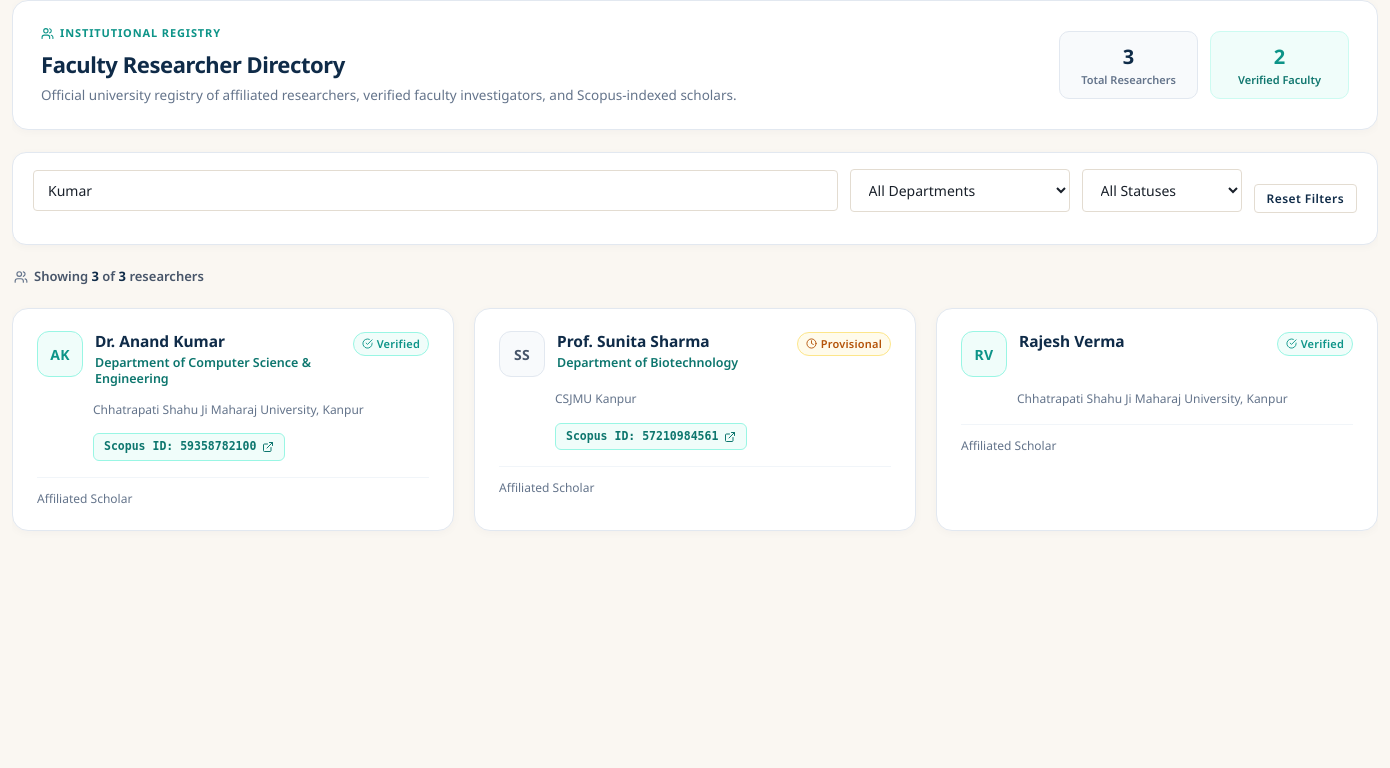
Test: SamikshaResearchersTab - Faculty Researcher Directory Suite › 6. Filters researchers by verification status and search input
The width and height of the screenshot is (1390, 768).
Expected: the field with placeholder "Search researchers by name, department, or Scopus ID..." holds "Kumar", [33,170,838,211]
Note: Filter by verification status
Select "Provisional Only" in the dropdown named "Filter by verification status" at (1162,190), box [1082,169,1242,212]
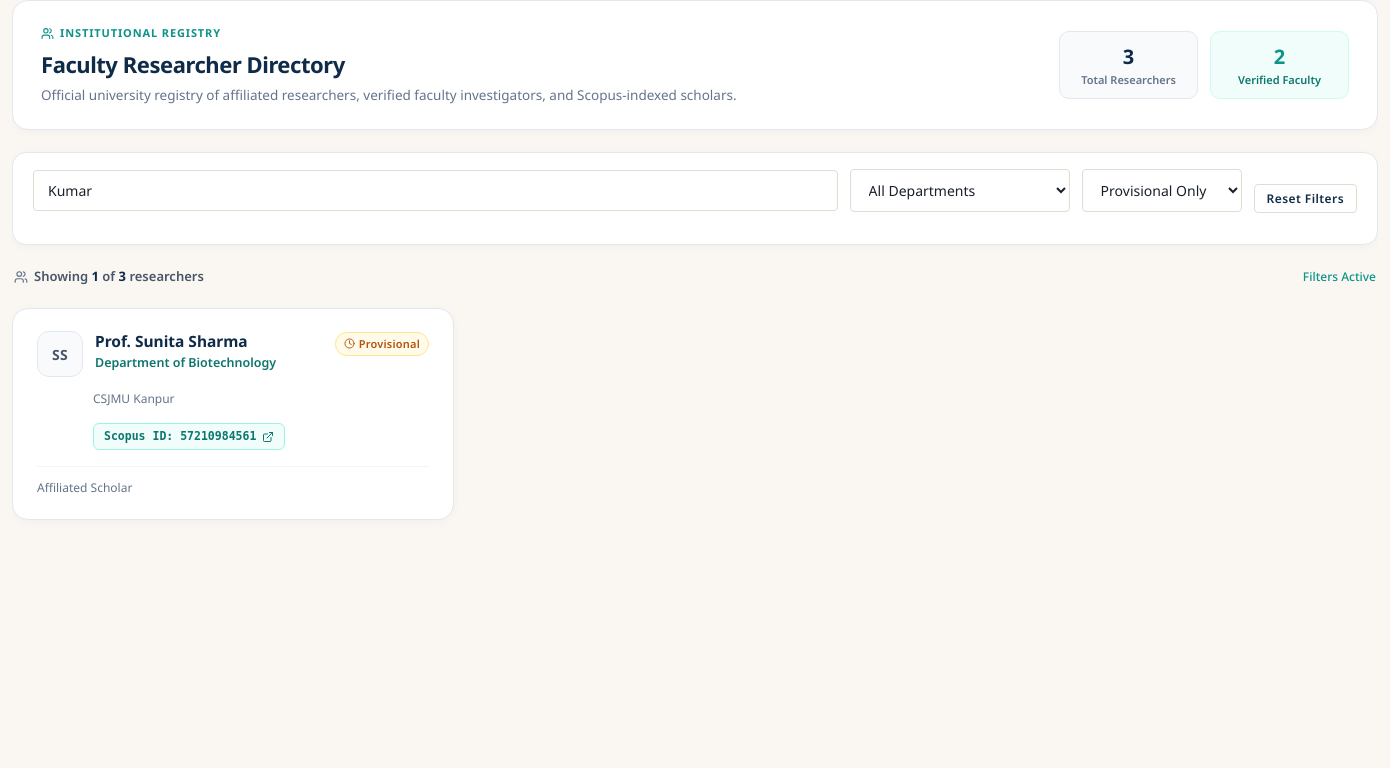
Expected: the heading "Prof. Sunita Sharma" is shown, [95,330,248,352]
Now the heading "Dr. Anand Kumar" is gone
Now the heading "Rajesh Verma" is gone
